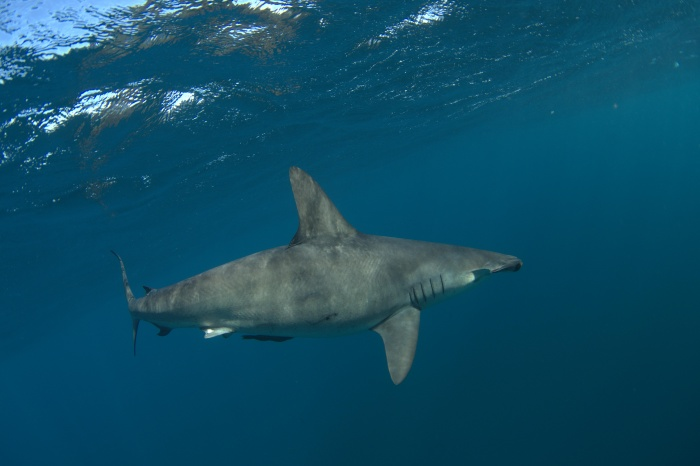Hammer: (54, 130, 560, 415)
